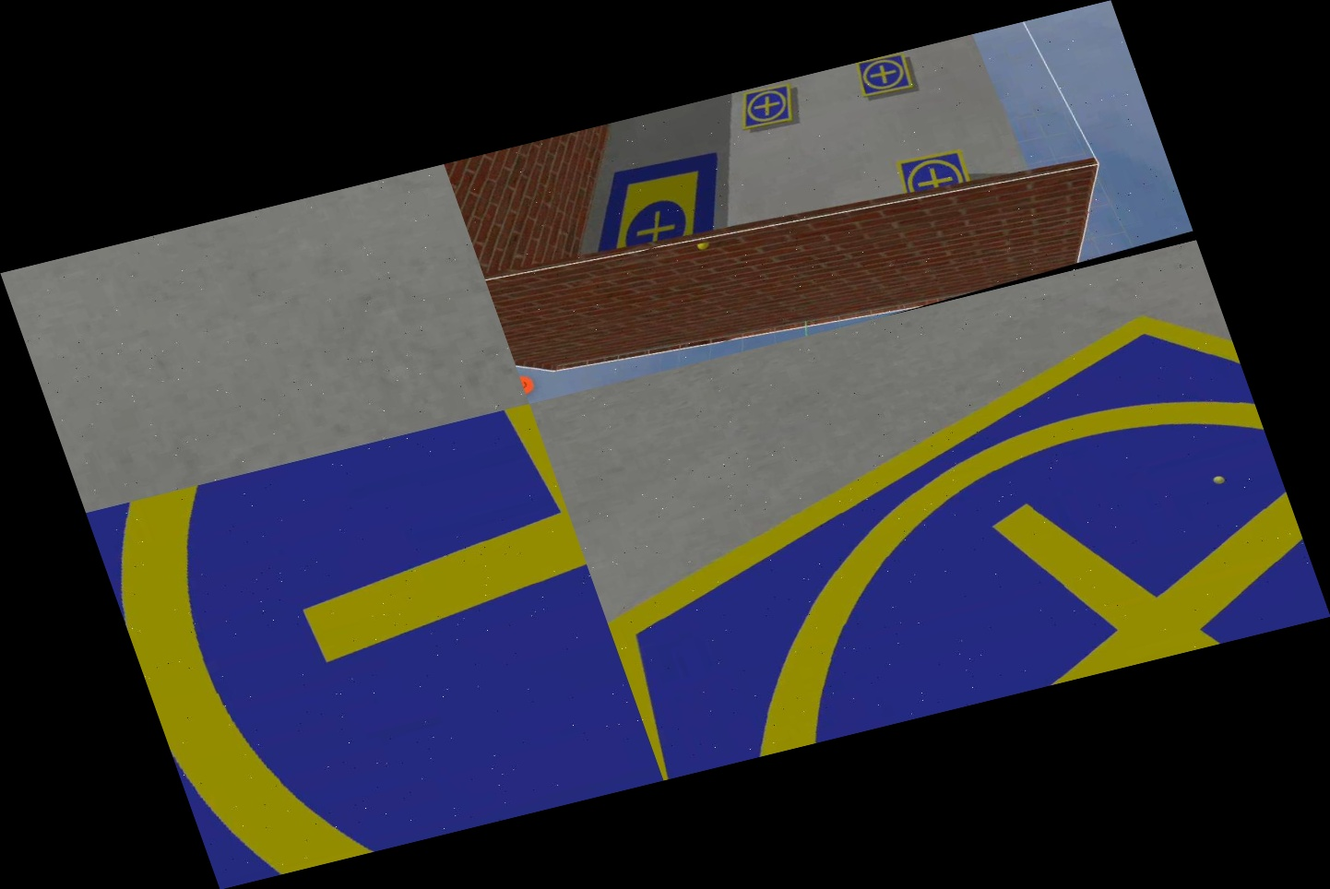large_base: (571, 143, 747, 262)
small_base: (545, 282, 1330, 779), (86, 404, 663, 889), (891, 142, 977, 201), (730, 79, 804, 133), (849, 50, 920, 102)
